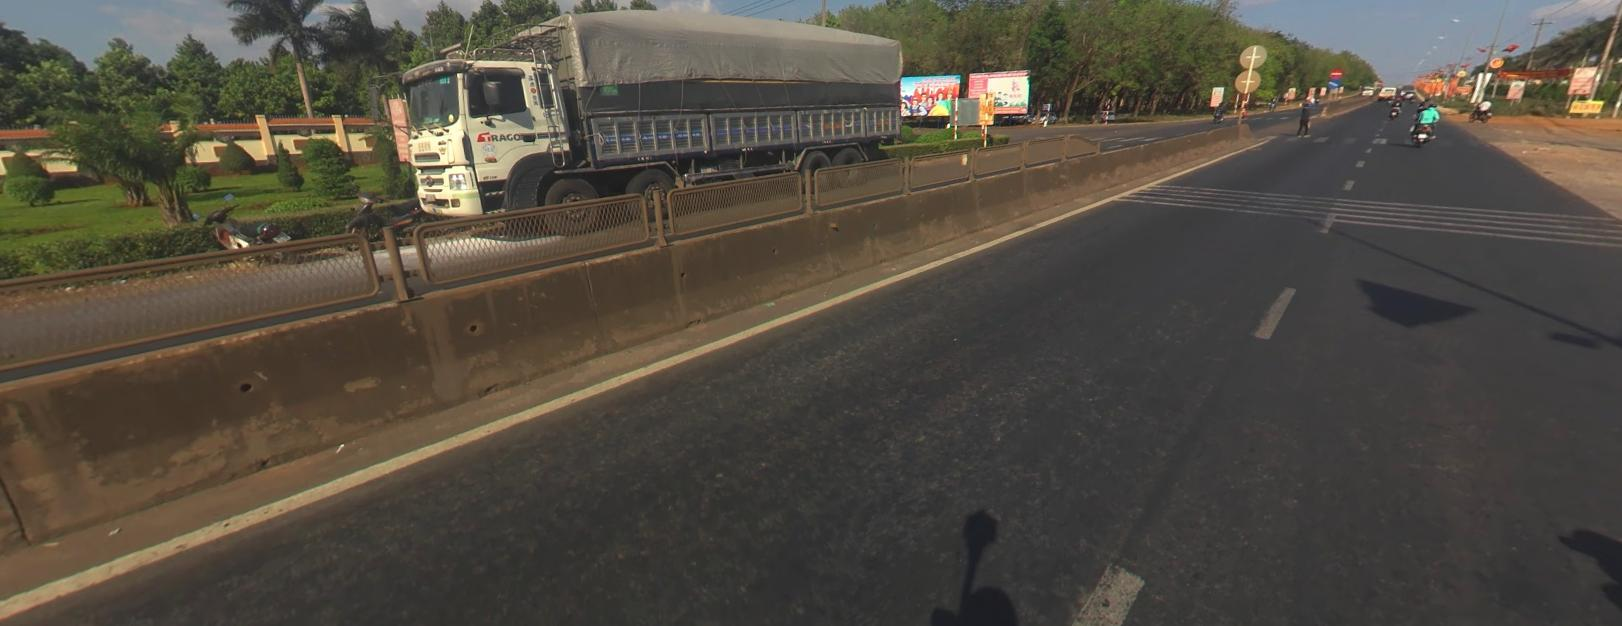Cam nguoc chieu: (1330, 66, 1343, 77)
Hieu lenh: (1327, 78, 1340, 87)
